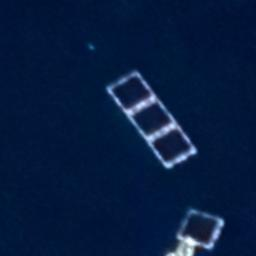square_solid: (144, 122, 199, 172), (103, 67, 159, 116), (125, 95, 179, 141), (174, 205, 226, 252)
